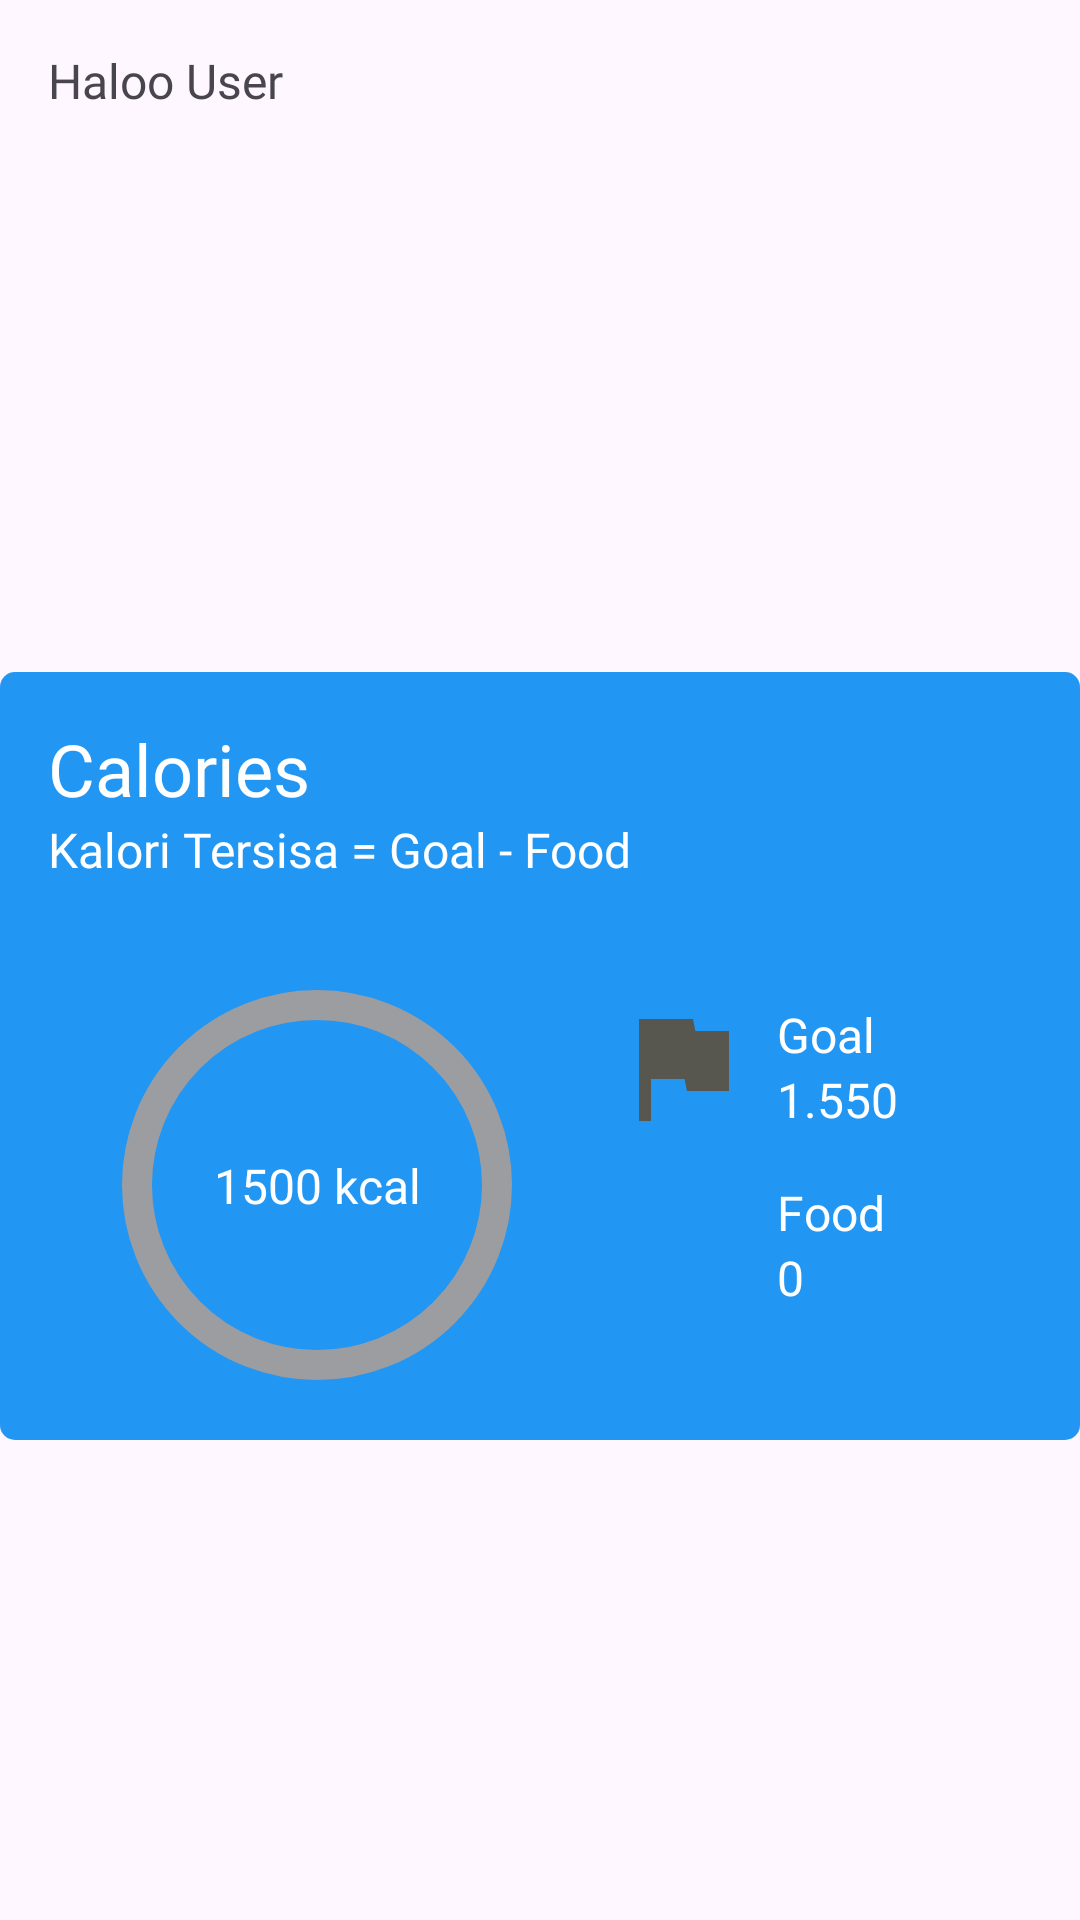

Locate icon controls on the screen. Image size 1080×1920, boxes as (x1, y1, x2, y2).
flag: (639, 1019, 729, 1121)
